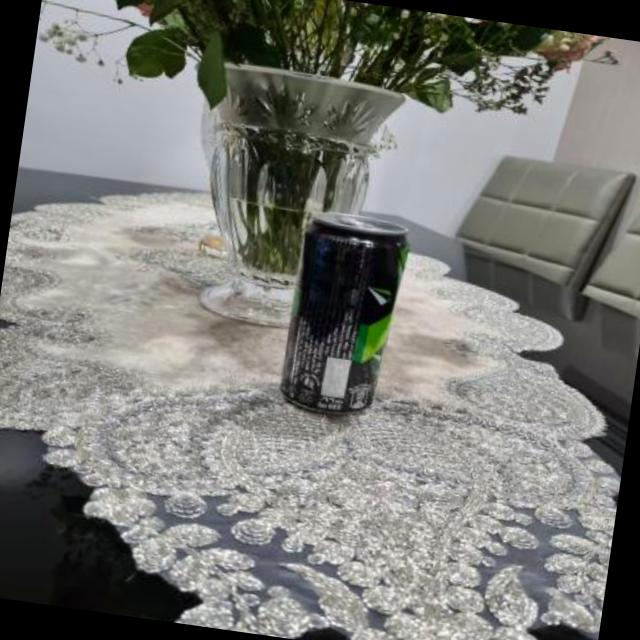metal: (284, 212, 410, 410)
